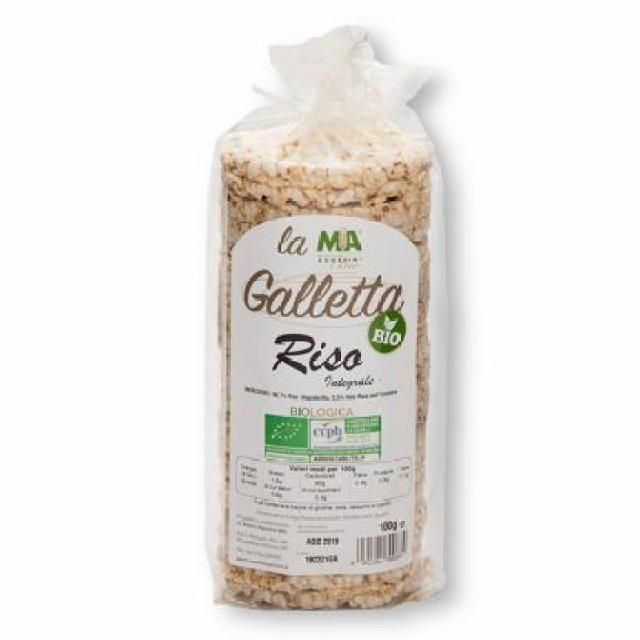Gallette di riso: (196, 27, 454, 619)
